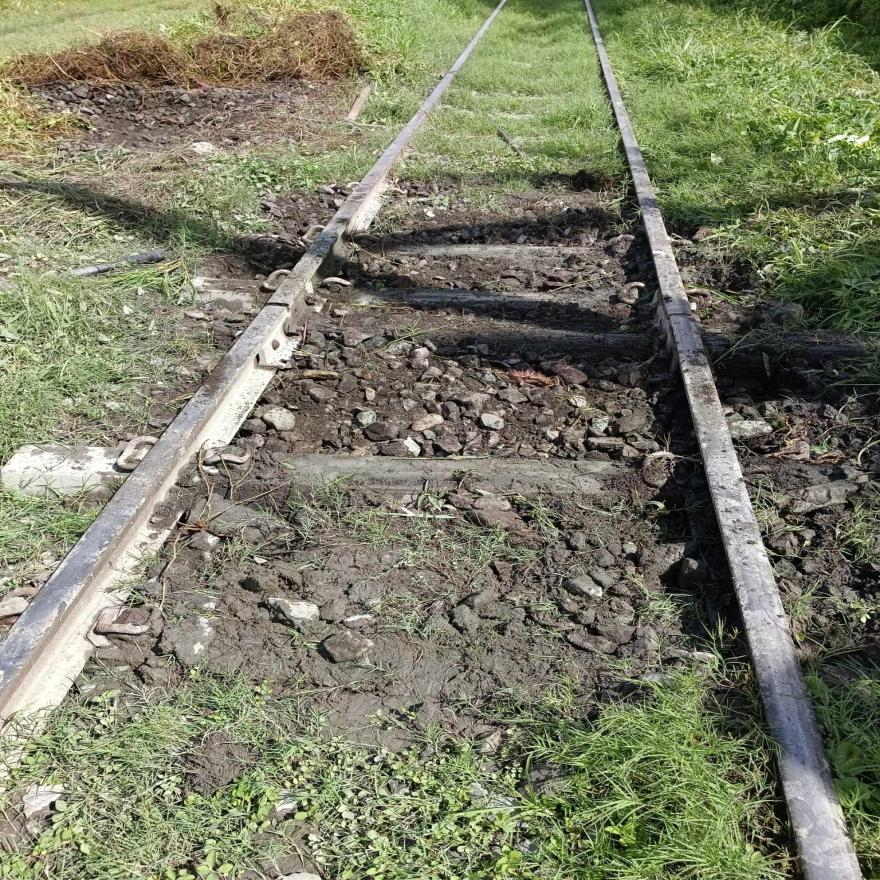railway-gap: (643, 289, 718, 342), (244, 282, 308, 328)
